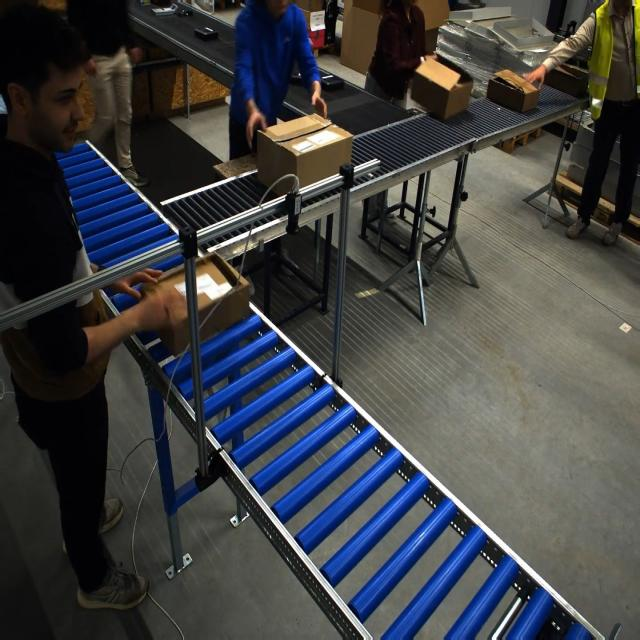box: (140, 254, 251, 358), (256, 115, 345, 194), (413, 60, 473, 119), (485, 66, 538, 109)
